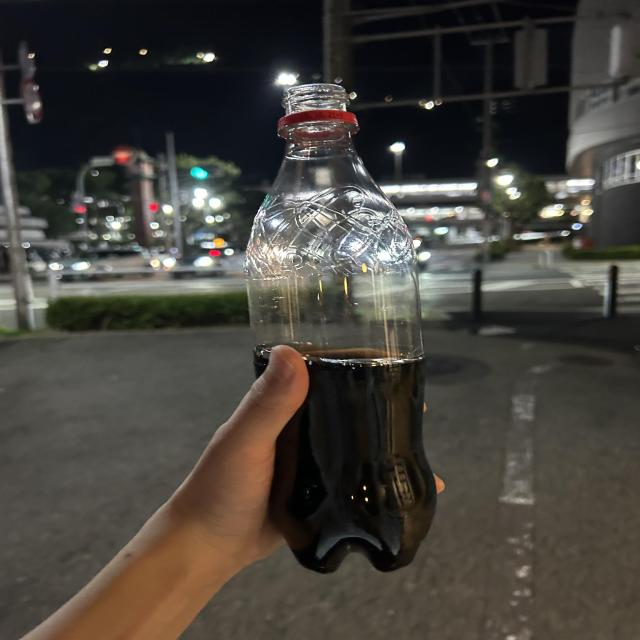medium: (244, 84, 436, 572)
